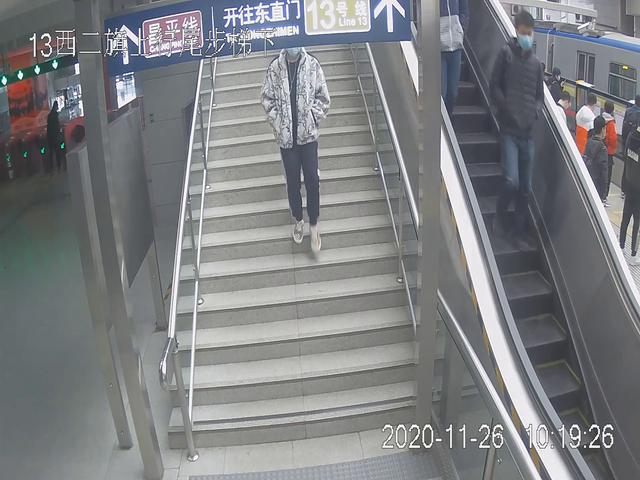person: (259, 39, 338, 266), (489, 6, 546, 250)
